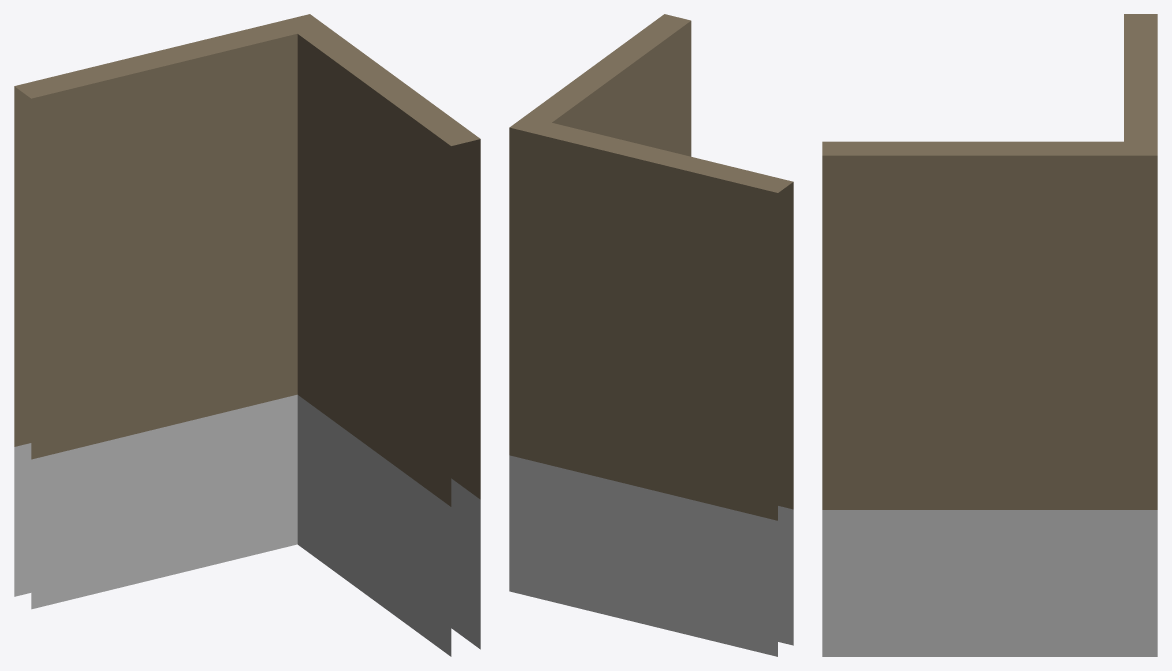
The model's file is SM_Wall_Corner_A_200.FBX.
3 renders of one model, left to right at view 1: azimuth 30°, elevation 25°; view 2: azimuth 150°, elevation 25°; view 3: azimuth 270°, elevation 25°, orthographic. The views are drawn at different scales.
Visible parts, largest first — view 1: SM_Wall_Corner_A_200; view 2: SM_Wall_Corner_A_200; view 3: SM_Wall_Corner_A_200.
Boxes of the visible parts, x1=… form: SM_Wall_Corner_A_200: x1=14, y1=14, x2=480, y2=656; SM_Wall_Corner_A_200: x1=509, y1=14, x2=793, y2=656; SM_Wall_Corner_A_200: x1=822, y1=14, x2=1157, y2=656.
Bounding box in the file's own units: 200 × 200 × 330.
